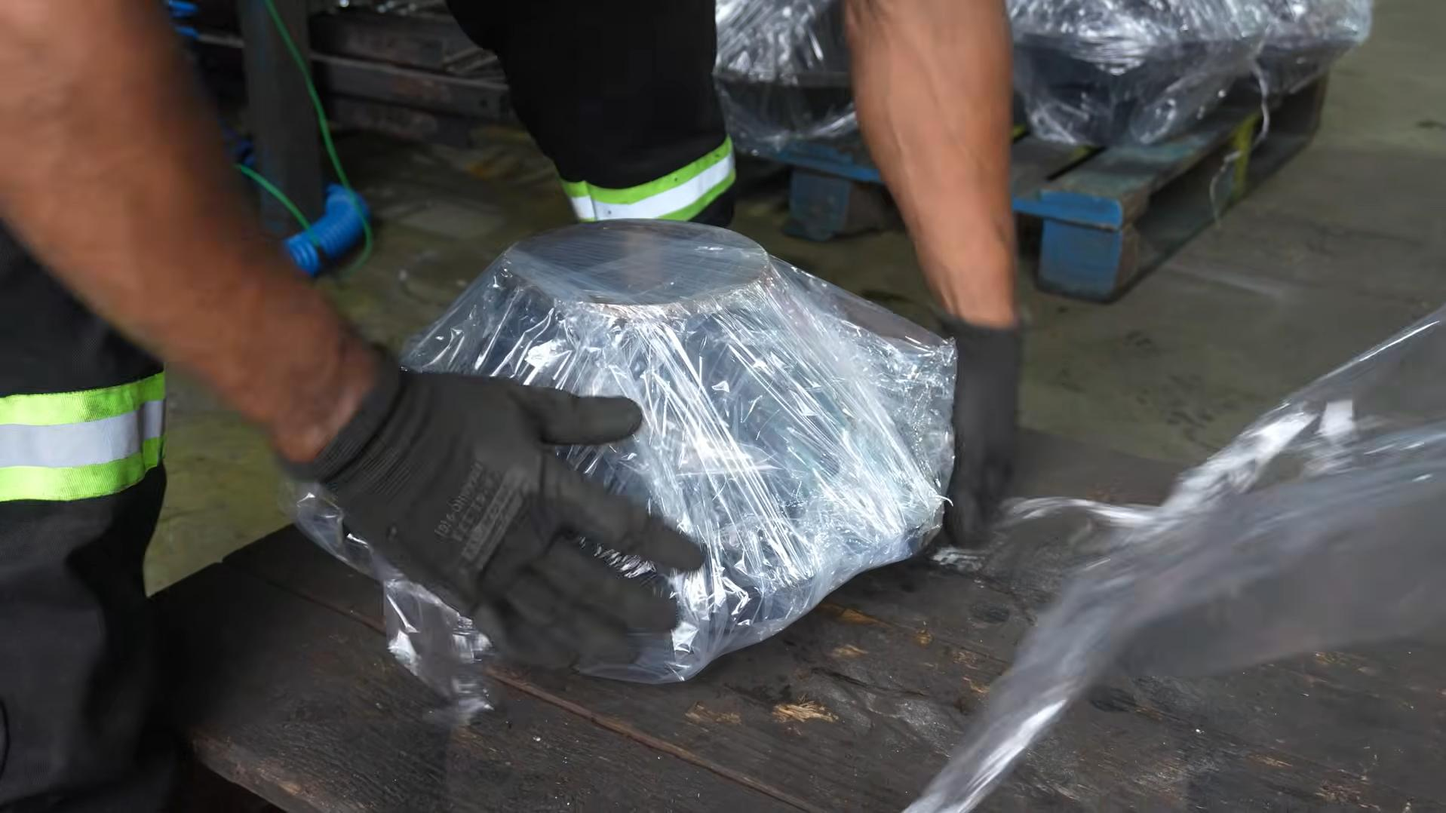vest: (0, 1, 181, 532)
